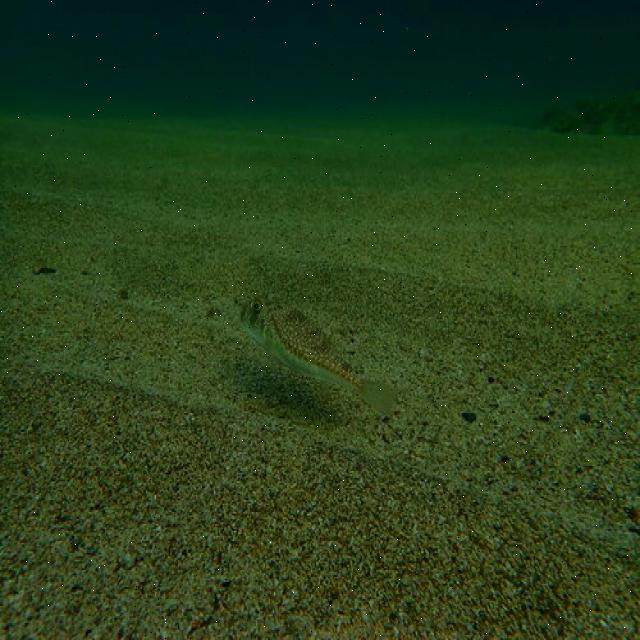Balik: (241, 301, 394, 416)
